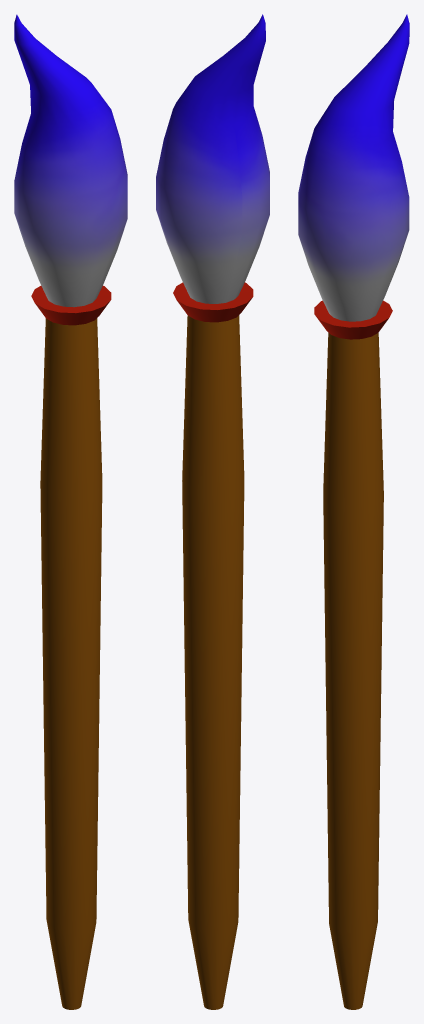
The model's file is Brush.obj.
3 views of the same model, side by side, from view 1: azimuth 90°, elevation 25°; view 2: azimuth 210°, elevation 25°; view 3: azimuth 270°, elevation 25° (orthographic). The views are drawn at different scales.
Parts seen in each view (by area): view 1: Brush_Head_; view 2: Brush_Head_; view 3: Brush_Head_.
Boxes of the visible parts, bbox=[...] form: Brush_Head_: bbox=[14, 14, 127, 1009]; Brush_Head_: bbox=[156, 14, 269, 1009]; Brush_Head_: bbox=[298, 14, 409, 1009].
Bounding box in the file's own units: 3.09 × 30.03 × 3.08.
